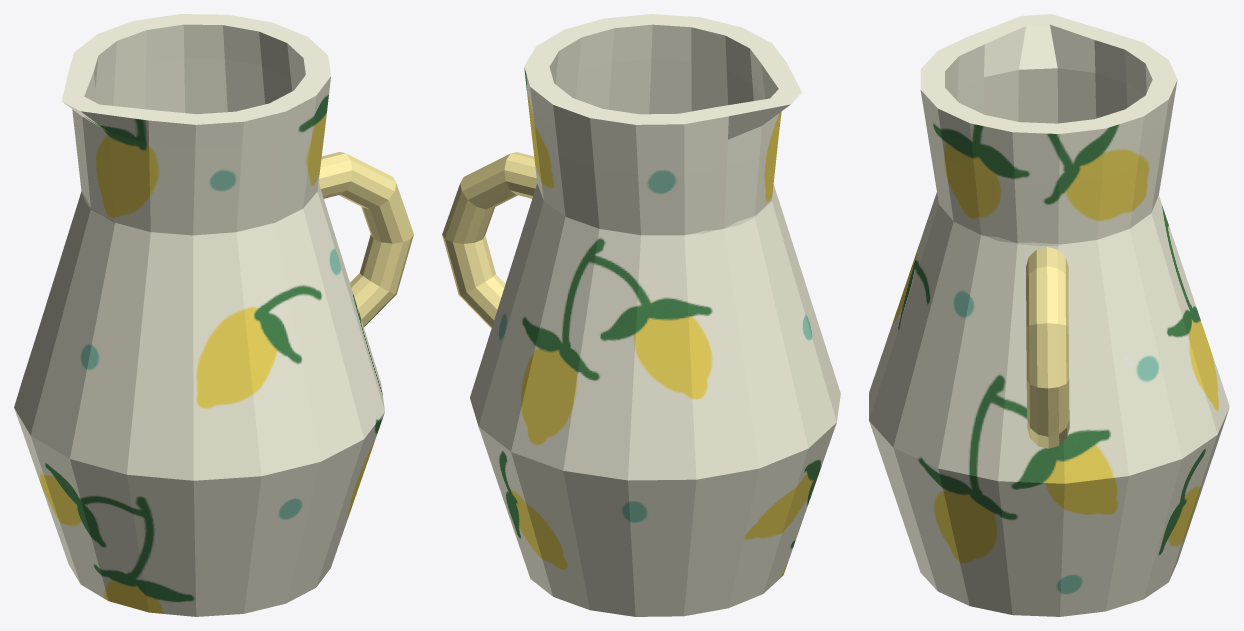
Rendered from Jarra (1).fbx.
3 renders of one model, left to right at view 1: azimuth 30°, elevation 25°; view 2: azimuth 150°, elevation 25°; view 3: azimuth 270°, elevation 25°, orthographic.
Visible parts, largest first — view 1: Cube, Torus; view 2: Cube, Torus; view 3: Cube, Torus.
Part boxes in pixels (x1,y1,x2,y2): Cube: (14, 14, 384, 616); Torus: (318, 152, 413, 326); Cube: (470, 14, 840, 616); Torus: (442, 152, 537, 328); Cube: (869, 14, 1229, 616); Torus: (1026, 247, 1069, 448).
Size of the model in its own units: 325 by 411 by 278.
2 materials, 2 textured.
